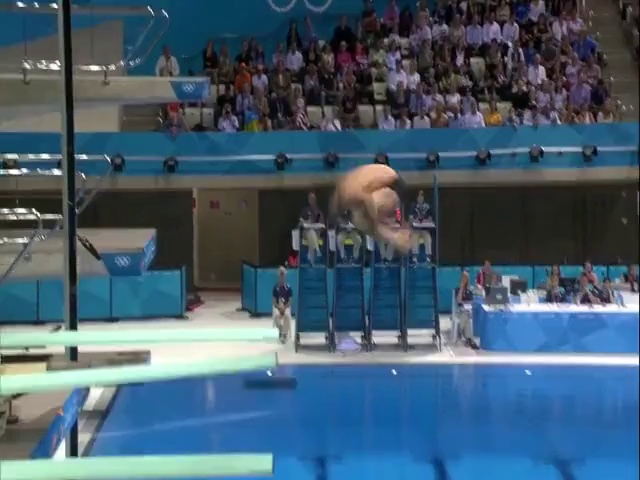diver: (314, 163, 420, 255)
